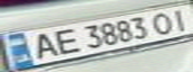3: (78, 21, 103, 50), (130, 15, 154, 40)
8: (100, 19, 121, 47), (115, 17, 136, 44)
A: (24, 29, 63, 61)
E: (48, 25, 81, 56)
I: (163, 6, 193, 31)
O: (148, 9, 178, 35)
